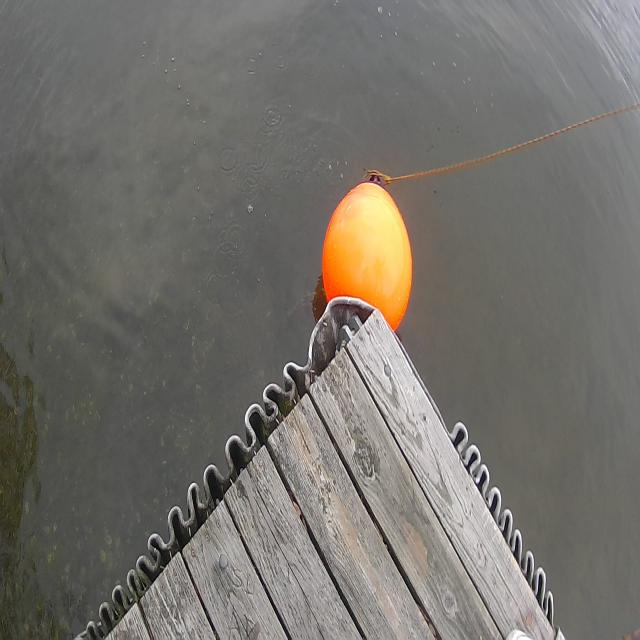Buoy: (316, 160, 422, 353)
